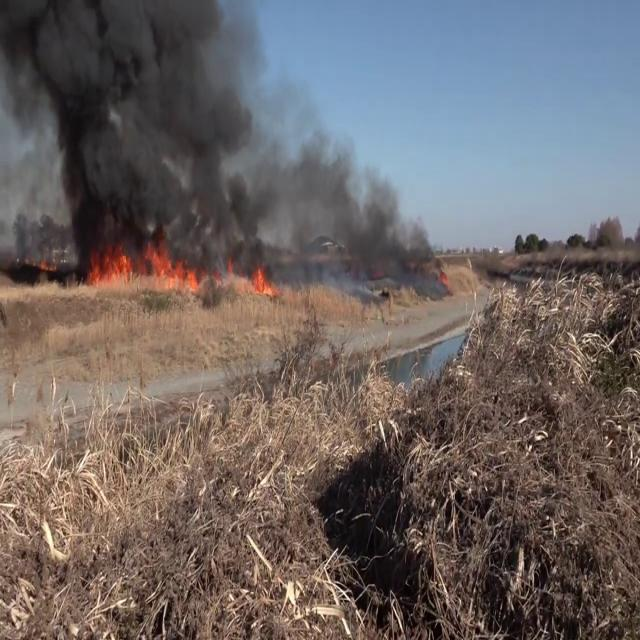Fire: (77, 226, 202, 292), (245, 257, 277, 297)
Smoke: (0, 0, 265, 263), (272, 112, 448, 283)
